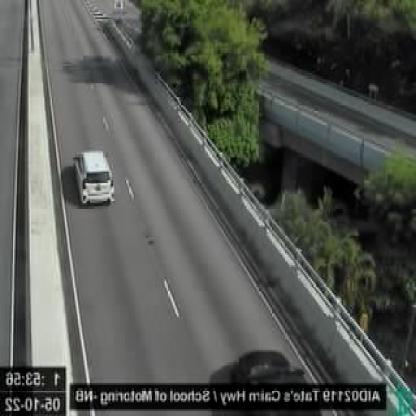Car: (74, 151, 116, 206)
